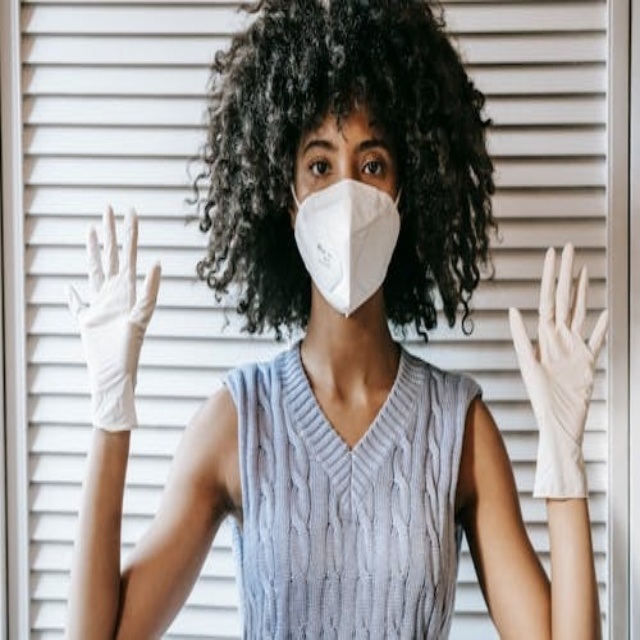Guantes: (507, 240, 610, 500), (67, 203, 163, 434)
Mascara: (291, 178, 403, 317)
Sin_gafas: (293, 125, 392, 183)
